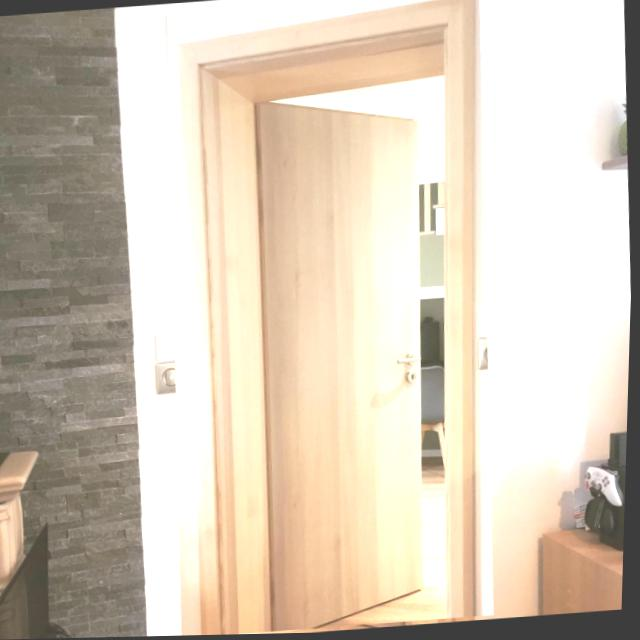semi-open: (153, 0, 514, 636)
